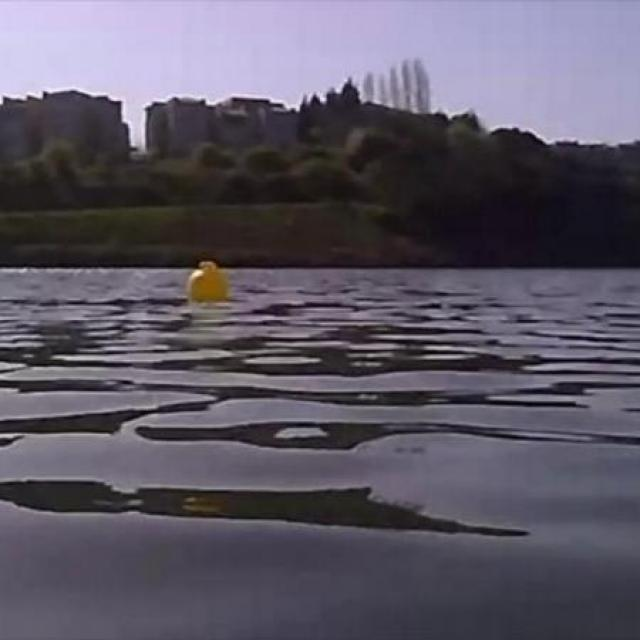buoy: (190, 261, 228, 301)
